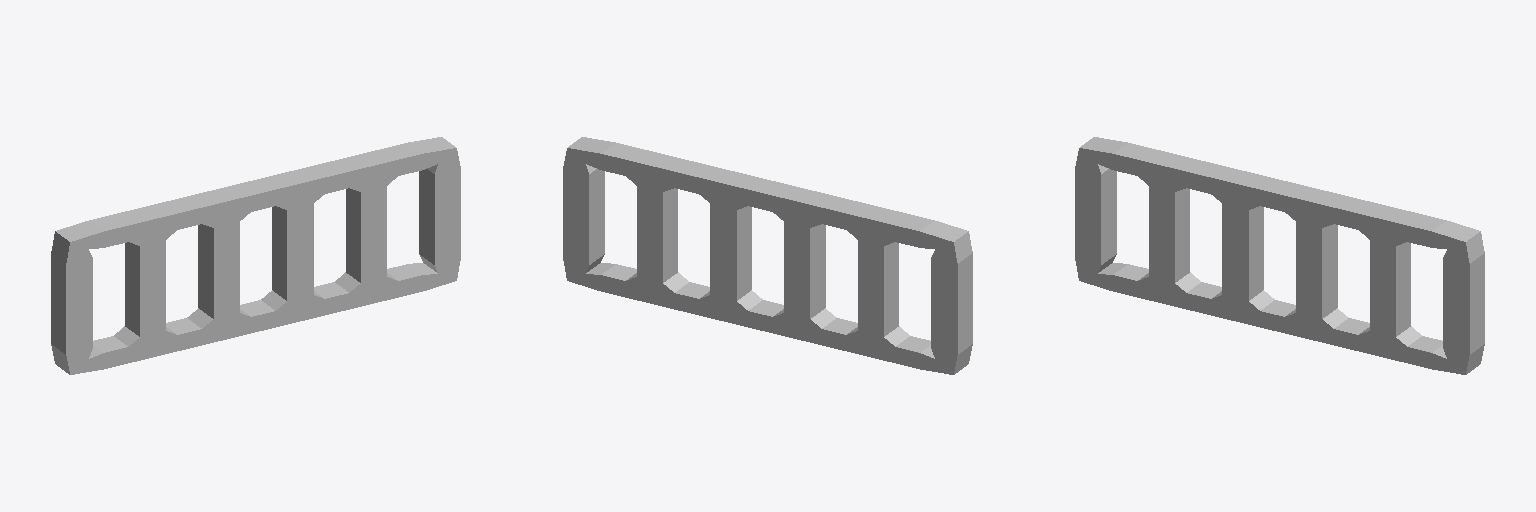
File: BlockFence.obj
The picture shows the model from 3 angles: view 1: azimuth 30°, elevation 25°; view 2: azimuth 150°, elevation 25°; view 3: azimuth 330°, elevation 25°; orthographic projection.
Parts seen in each view (by area): view 1: Circle.008_Circle.006; view 2: Circle.008_Circle.006; view 3: Circle.008_Circle.006.
Part boxes in pixels (x1,y1,x2,y2): Circle.008_Circle.006: (51,137,460,374); Circle.008_Circle.006: (563,137,972,374); Circle.008_Circle.006: (1075,137,1484,374).
Size of the model in its own units: 19.58 by 6.54 by 1.3.